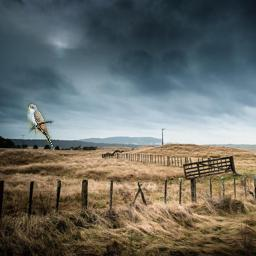Cuckoo: (28, 104, 55, 151)
